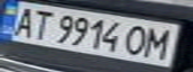1: (84, 17, 106, 51)
4: (100, 19, 127, 54)
9: (48, 11, 75, 45), (69, 15, 90, 47)
A: (6, 4, 42, 38)
M: (139, 25, 178, 61)
O: (121, 24, 154, 57)
T: (27, 8, 57, 42)
